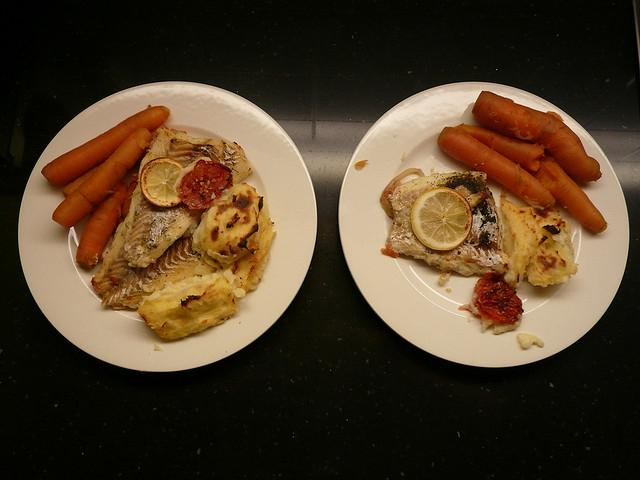carrot: (472, 91, 602, 183), (41, 105, 171, 186), (51, 126, 152, 228), (438, 126, 556, 208), (531, 155, 608, 233), (452, 124, 544, 176), (76, 184, 128, 270), (61, 162, 102, 198)
lemon: (410, 188, 472, 250), (140, 158, 184, 208)
potato: (494, 197, 580, 288), (138, 270, 245, 340), (200, 183, 264, 264)
